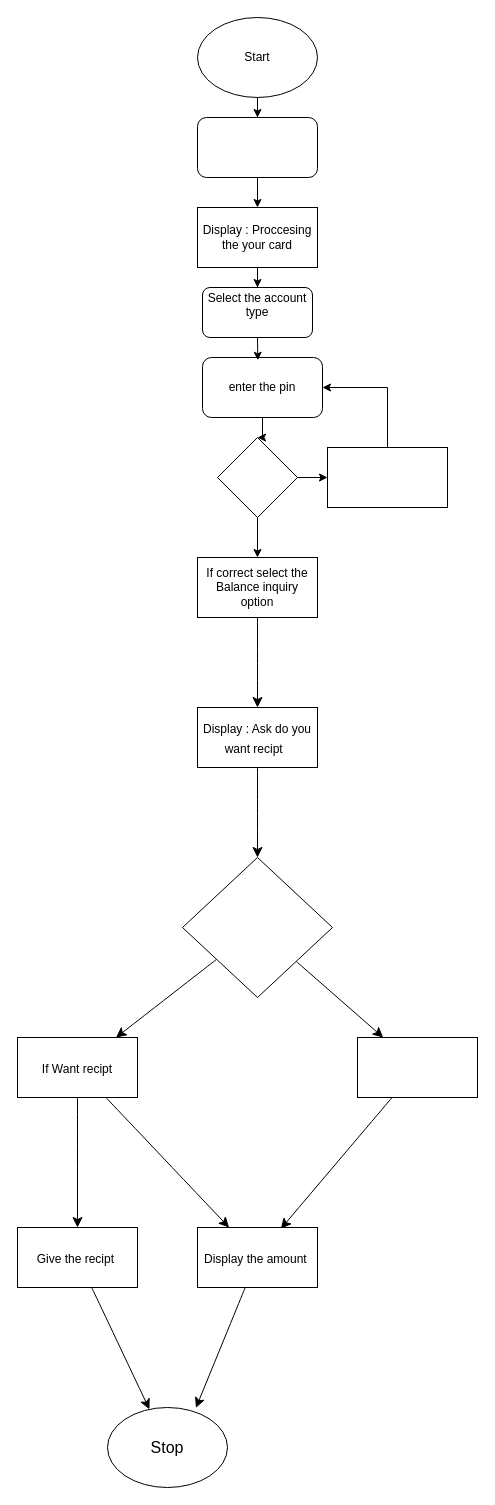
Some shapes in this 495 by 1505 pixel diagram are drawn without their labels. Here are the shapes that lost their labels. From the top down, the box of each, then its label:
(196, 116, 318, 178): Inset the card
(216, 436, 298, 518): checking pin
(326, 446, 448, 508): If not enter correct pin
(182, 856, 332, 998): check whic option selected
(356, 1036, 478, 1098): if dont want recipt
